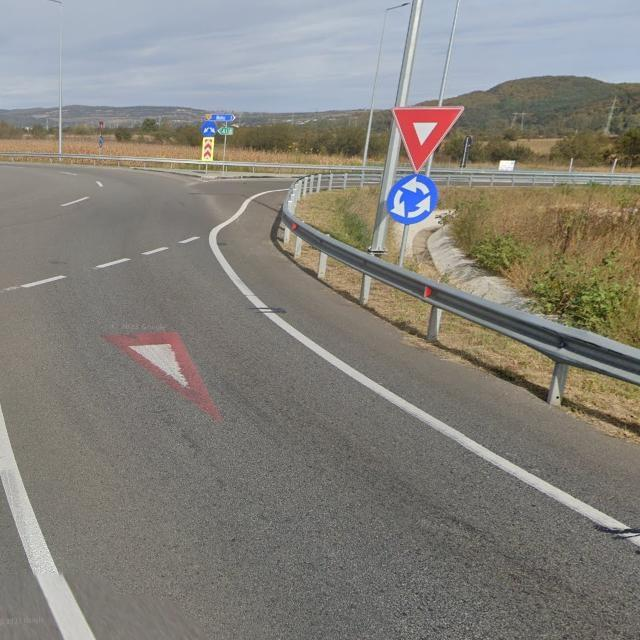prio_give_way: (99, 331, 223, 424), (391, 106, 466, 174), (98, 121, 105, 131)
